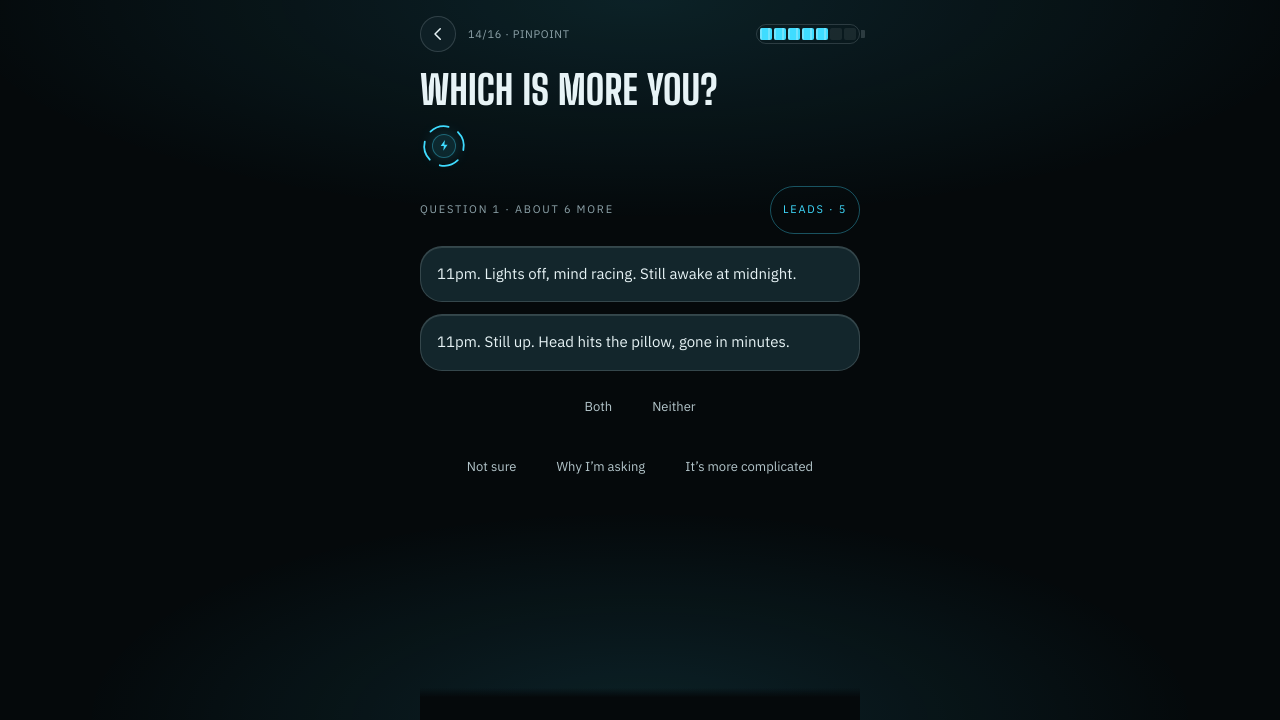
Test case: the AI (phase 5) › says so when nothing matched, and leaves the question as it was
This screenshot has width=1280, height=720.
Step 1. Click the button "It’s more complicated" → (749, 467), box x1=673 y1=443 x2=825 y2=491
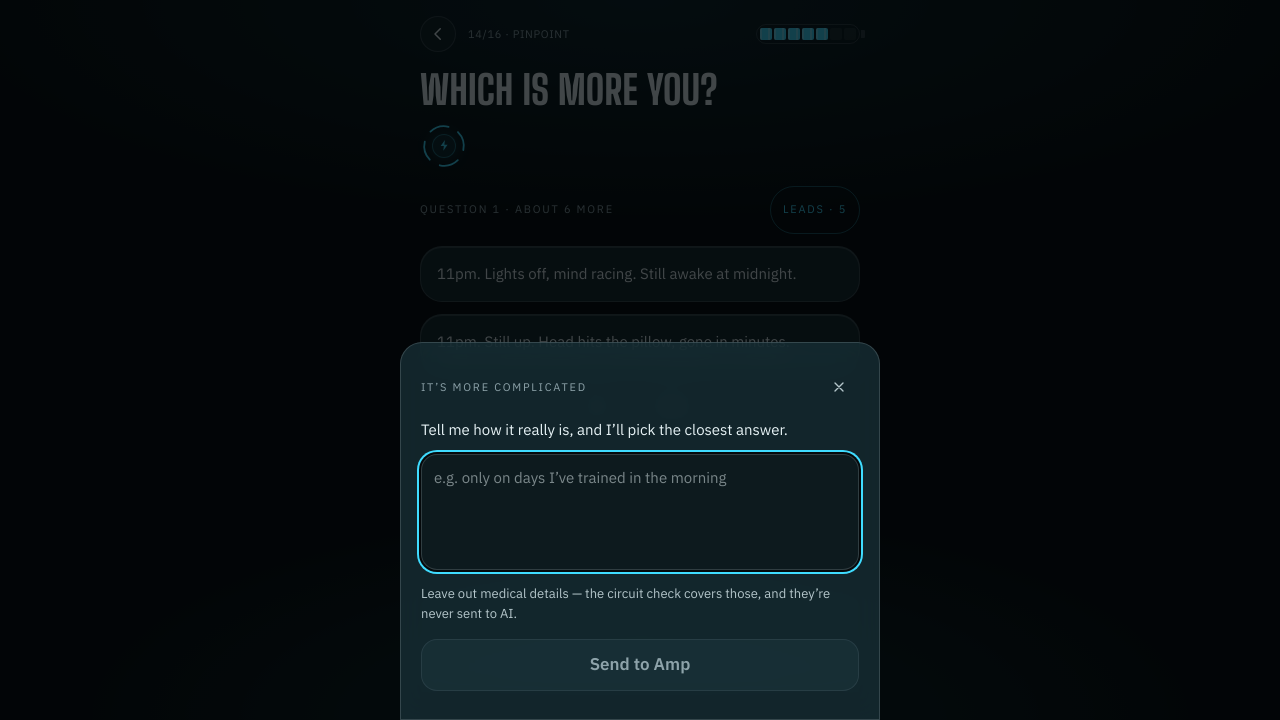
Step 2. Type "hard to say" into the text box → (640, 512), box x1=421 y1=454 x2=859 y2=570
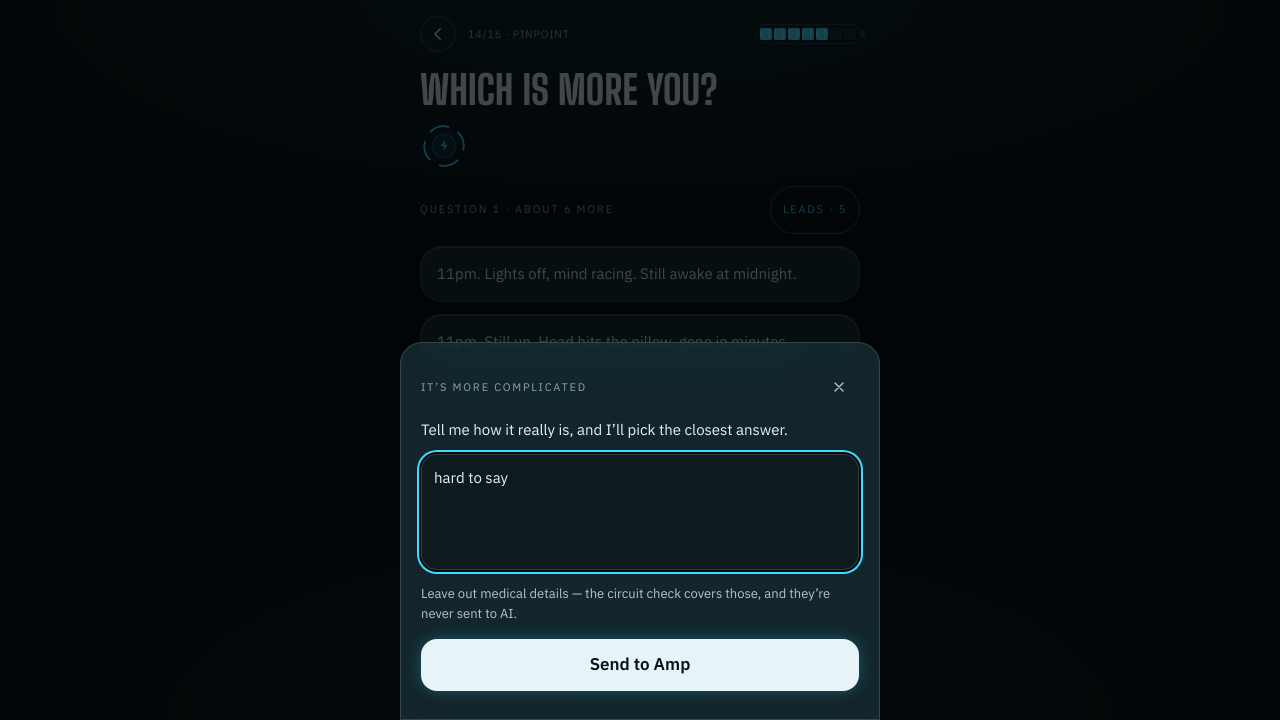
Step 3. Click the button "Send to Amp" → (640, 665), box x1=421 y1=639 x2=859 y2=691
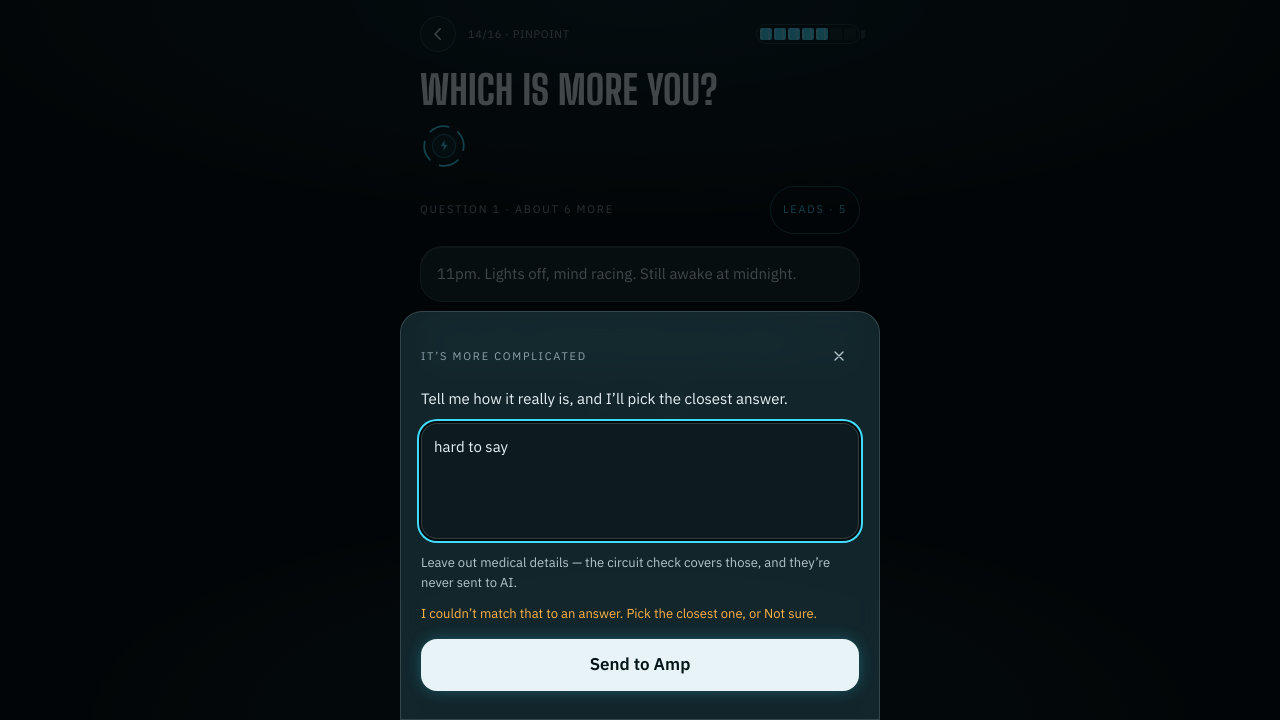
Expected: the text "couldn’t match that to an answer" is shown, x1=421 y1=604 x2=817 y2=622
